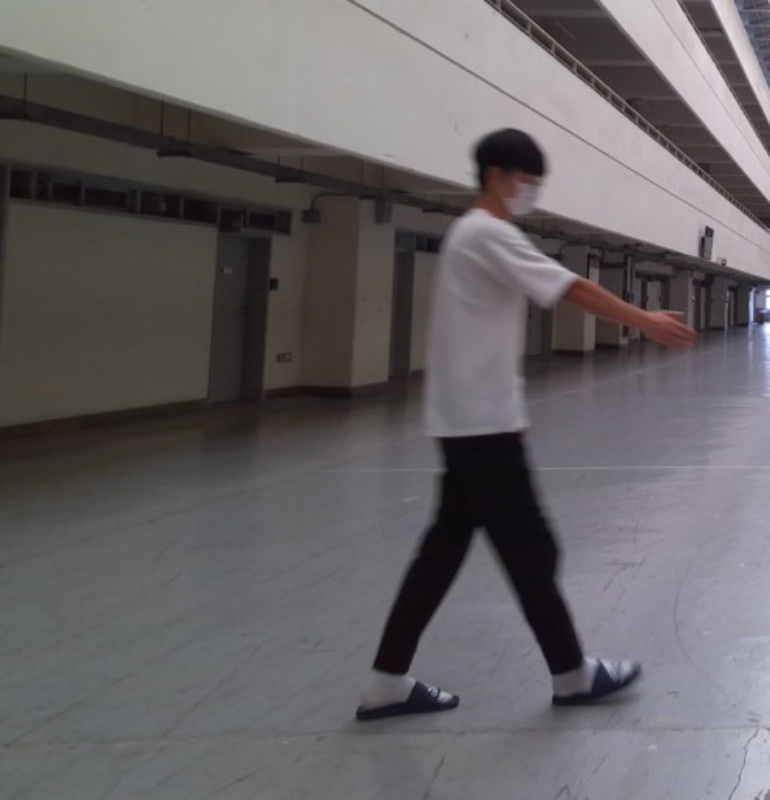person: (353, 127, 706, 723)
